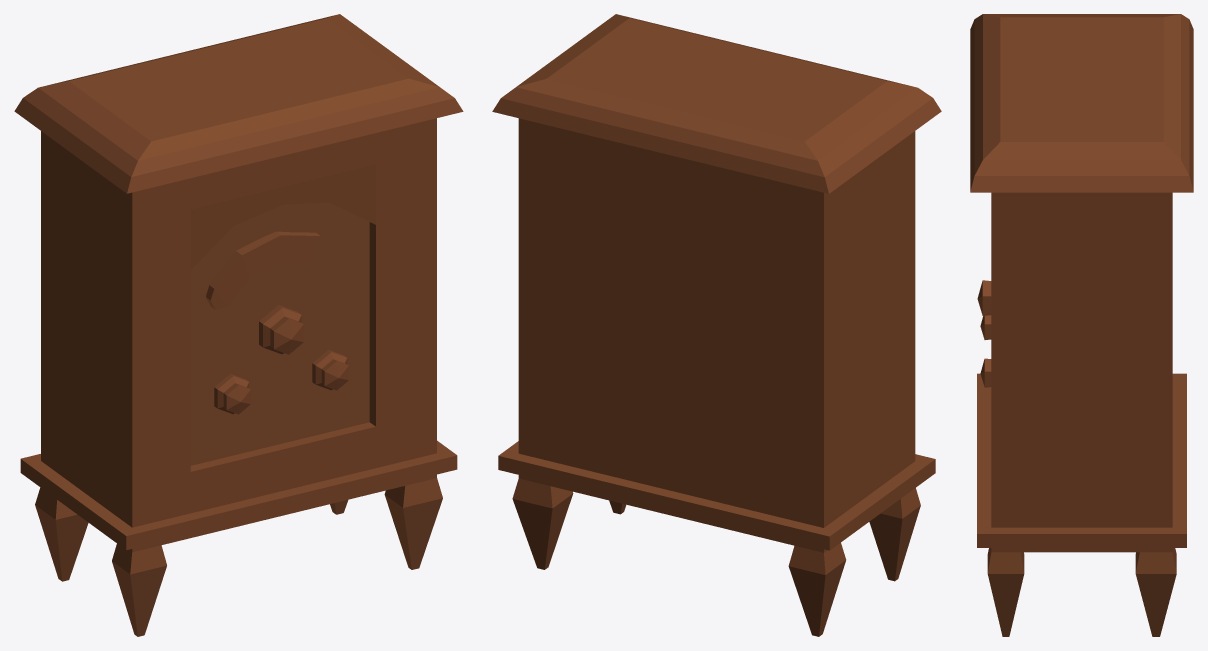
The model's file is env_Jukebox.fbx.
3 renders of one model, left to right at view 1: azimuth 30°, elevation 25°; view 2: azimuth 150°, elevation 25°; view 3: azimuth 270°, elevation 25°, orthographic.
Visible parts, largest first — view 1: env_Jukebox; view 2: env_Jukebox; view 3: env_Jukebox.
Boxes of the visible parts, <box> form: env_Jukebox: <box>14,14,463,636</box>; env_Jukebox: <box>492,14,941,636</box>; env_Jukebox: <box>970,14,1193,636</box>.
Size of the model in its own units: 292 by 409 by 169.
